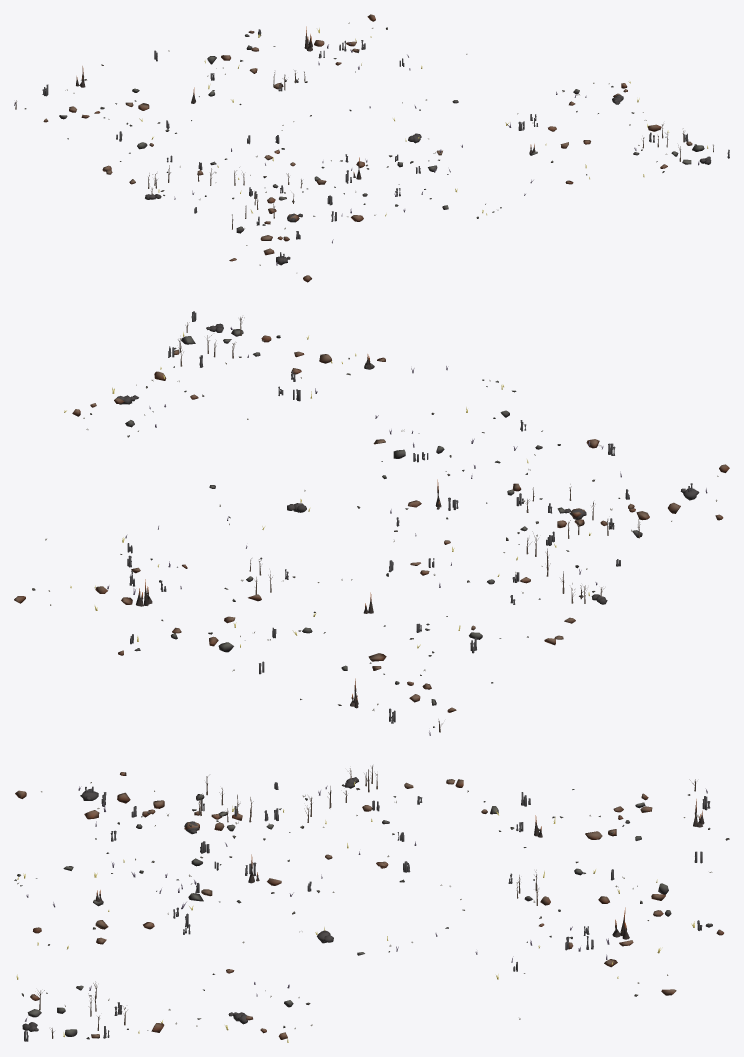
The model's file is ash_land_scatter_c21_30.glb.
3 renders of one model, top to bottom at view 1: azimuth 30°, elevation 25°; view 2: azimuth 150°, elevation 25°; view 3: azimuth 270°, elevation 25°, orthographic. The views are drawn at different scales.
Parts seen in each view (by area): view 1: ash_land_scatter_c21_30; view 2: ash_land_scatter_c21_30; view 3: ash_land_scatter_c21_30.
Part boxes in pixels (bbox=[...]): ash_land_scatter_c21_30: bbox=[14, 14, 729, 282]; ash_land_scatter_c21_30: bbox=[14, 311, 729, 735]; ash_land_scatter_c21_30: bbox=[14, 765, 729, 1042].
Size of the model in its own units: 248 by 33.56 by 255.
